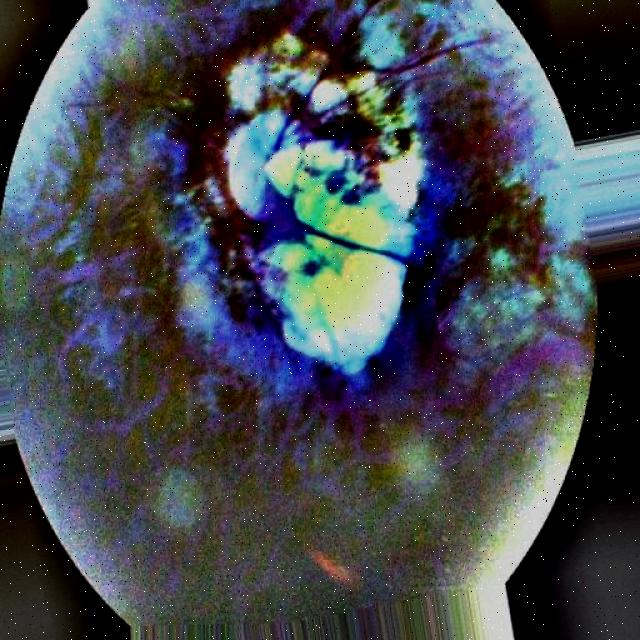Nerves: (272, 16, 479, 150), (308, 226, 409, 265)
Optic Disk: (229, 115, 311, 219)
